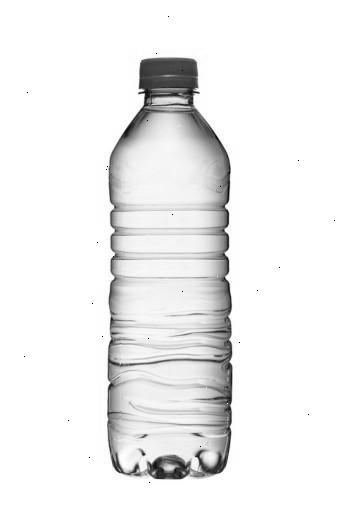bottle: (102, 52, 238, 480)
